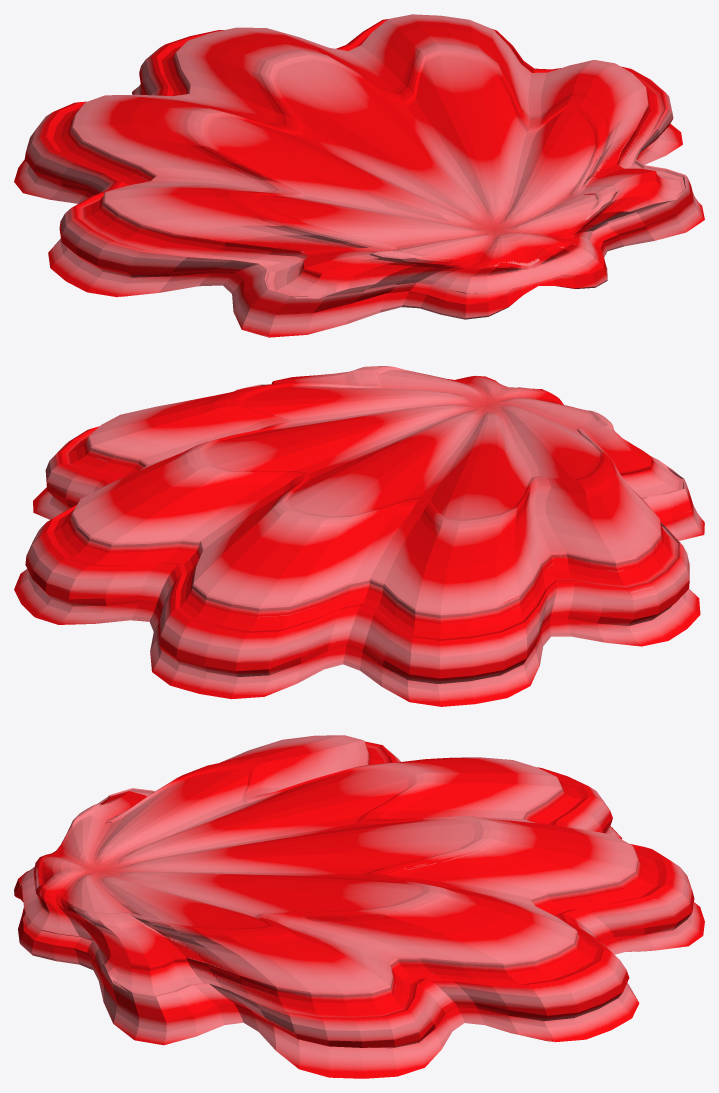
The model's file is scallop red.fbx.
3 views of the same model, one above another, from view 1: azimuth 30°, elevation 25°; view 2: azimuth 150°, elevation 25°; view 3: azimuth 270°, elevation 25° (orthographic).
Visible parts, largest first — view 1: seashell; view 2: seashell; view 3: seashell.
Boxes of the visible parts, x1,y1,x2,y2 form: seashell: (14,14,704,337); seashell: (14,366,704,706); seashell: (14,735,704,1078).
Size of the model in its own units: 191 by 28.48 by 185.
Materials: 1 (1 with a texture image).
